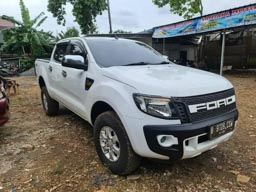plat: (207, 118, 234, 140)
